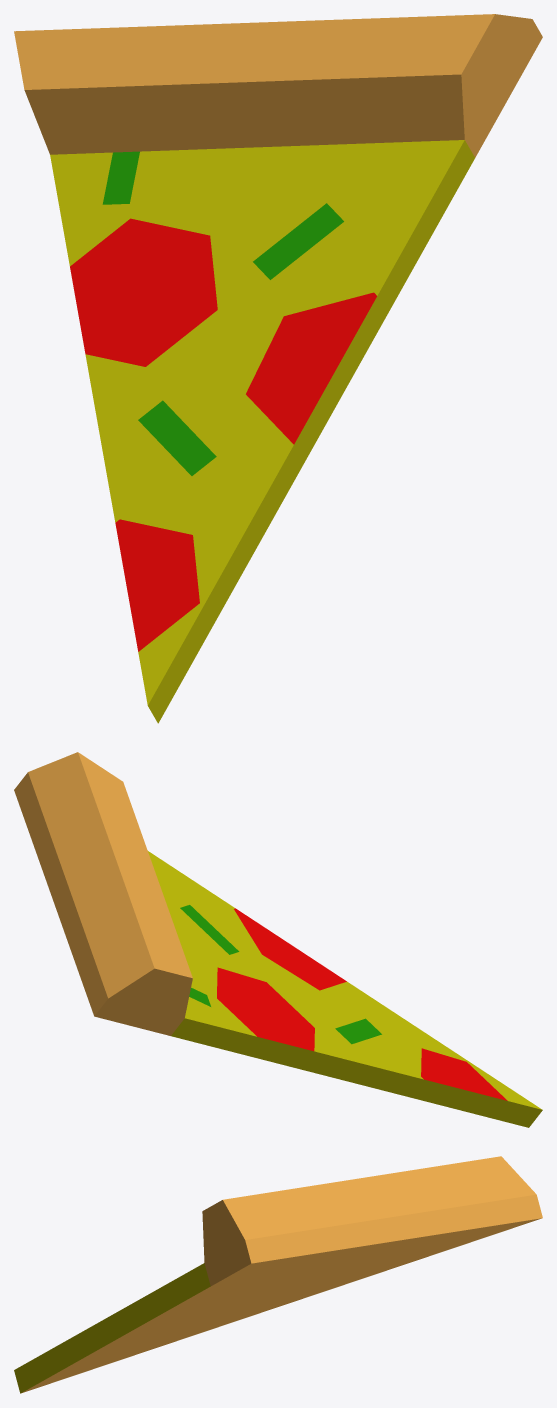
The model's file is Pizza Slice.fbx.
3 views of the same model, one above another, from view 1: azimuth 30°, elevation 25°; view 2: azimuth 150°, elevation 25°; view 3: azimuth 270°, elevation 25° (orthographic). The views are drawn at different scales.
Parts seen in each view (by area): view 1: Model; view 2: Model; view 3: Model.
Part boxes in pixels (bbox=[...]): Model: bbox=[14, 14, 542, 723]; Model: bbox=[14, 752, 542, 1127]; Model: bbox=[14, 1156, 542, 1393].
Size of the model in its own units: 95.26 by 80.87 by 106.
